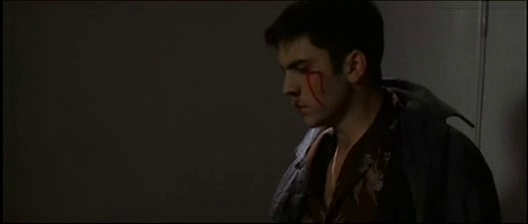face: (278, 47, 330, 128)
mcu: (1, 1, 528, 224)
person: (258, 1, 502, 224)
